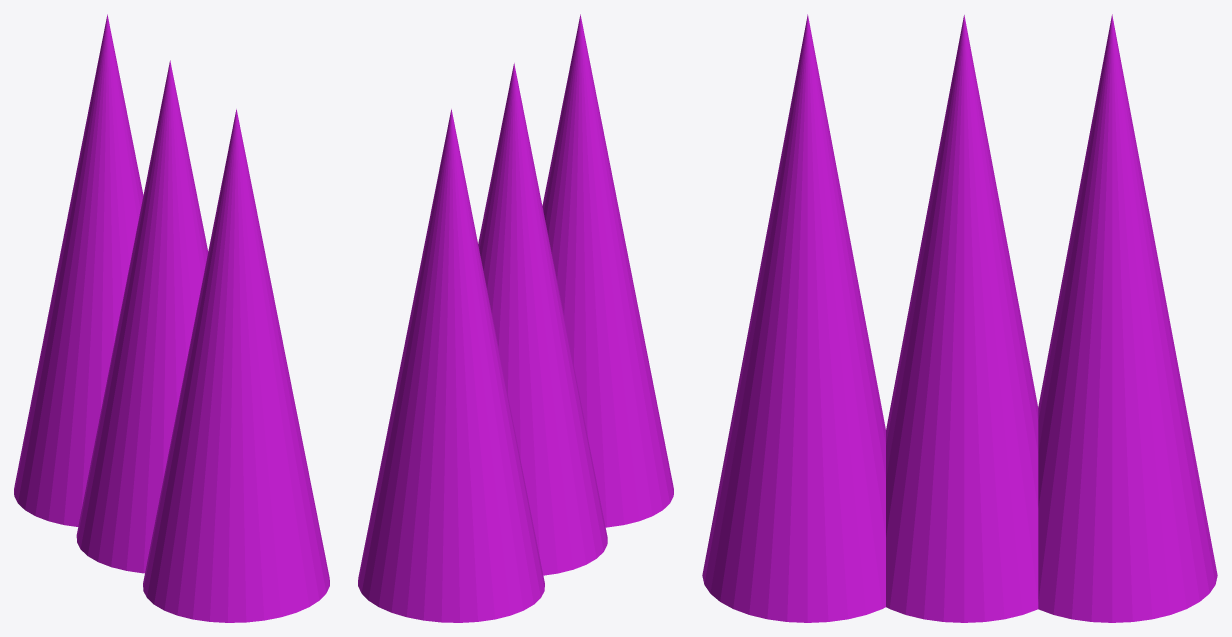
Rendered from PinchesOBS1.fbx.
The picture shows the model from 3 angles, left to right: view 1: azimuth 30°, elevation 25°; view 2: azimuth 150°, elevation 25°; view 3: azimuth 270°, elevation 25°; orthographic projection. The views are drawn at different scales.
Visible parts, largest first — view 1: Cone, Cone.001, Cone.002; view 2: Cone.002, Cone, Cone.001; view 3: Cone, Cone.002, Cone.001.
Part boxes in pixels (left/top/right/bottom): Cone: left=143, top=109, right=329, bottom=622; Cone.001: left=76, top=60, right=208, bottom=573; Cone.002: left=14, top=14, right=143, bottom=526; Cone.002: left=358, top=109, right=544, bottom=622; Cone: left=542, top=14, right=673, bottom=527; Cone.001: left=478, top=63, right=607, bottom=575; Cone: left=702, top=14, right=885, bottom=622; Cone.002: left=1038, top=14, right=1217, bottom=622; Cone.001: left=886, top=15, right=1038, bottom=622.
Size of the model in its own units: 124 by 342 by 284.
1 material, 1 textured.
